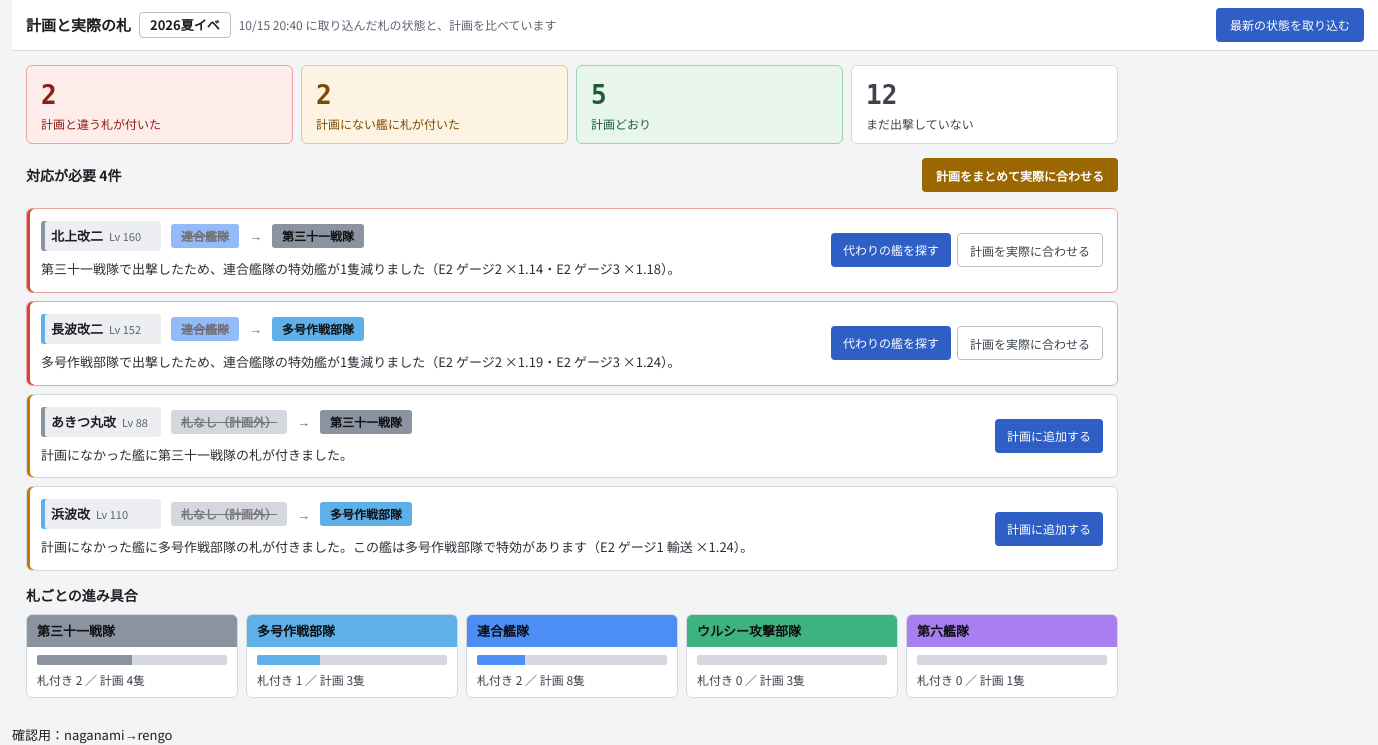
Scenario: 差分の画面（DriftPageContent） › 1 件ずつの反映 › 「計画を実際に合わせる」で計画を実際の札に変えて保存し（共有の札割りのデータにも届く）、一覧・件数・進み具合を計算し直し、「1件を計画に反映しました（長波改二）」と「元に戻す」を出す
The image size is (1378, 745).
Expected: the list named "件数のまとめ" is shown, [26,65,1118,144]
Click the button "計画を実際に合わせる" in the row of "Lv 152". click: (1030, 343)
box: [957,326,1103,360]
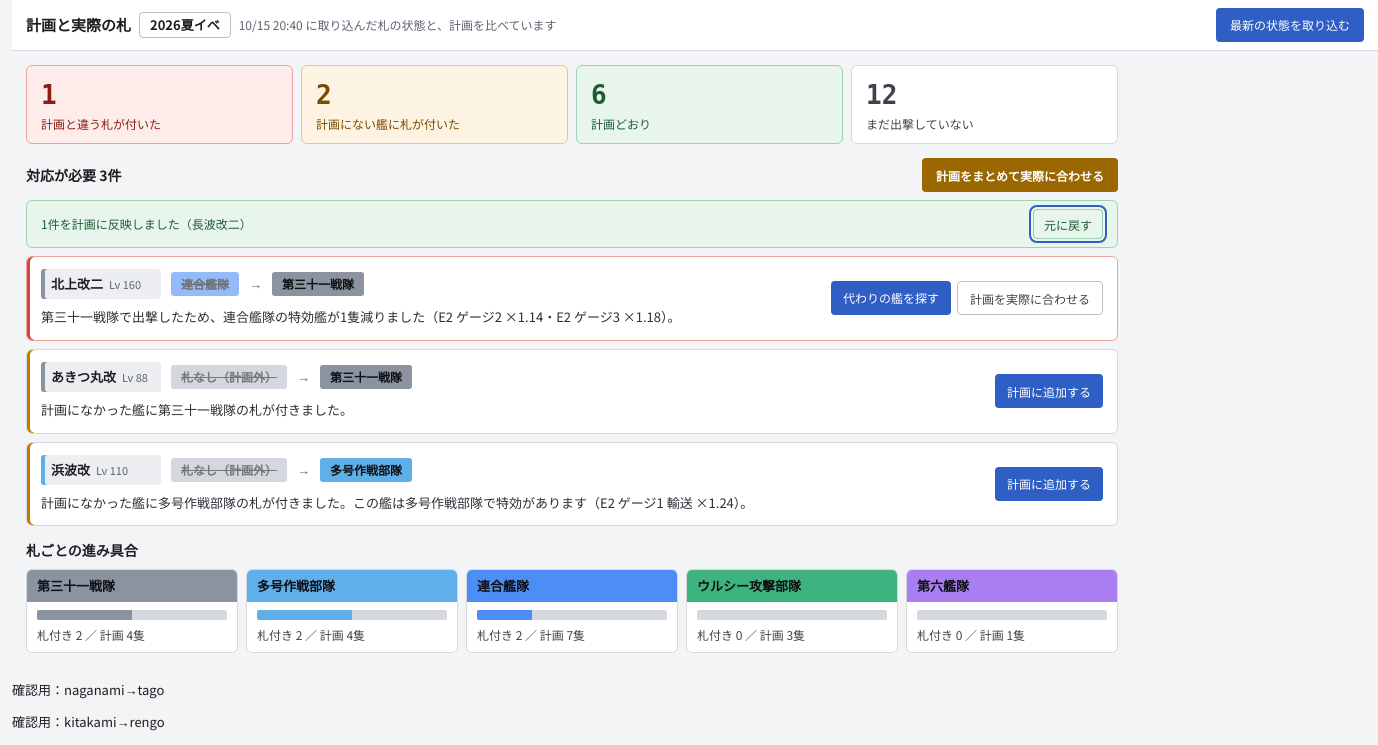
Expected: the button "元に戻す" is enabled, [1033,209,1103,239]
